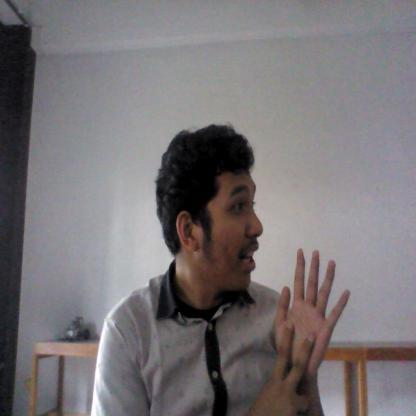N: (263, 244, 355, 414)
